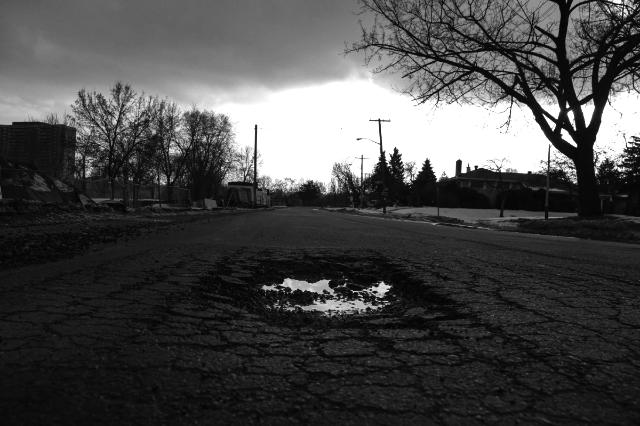Pothole: (234, 256, 460, 342)
